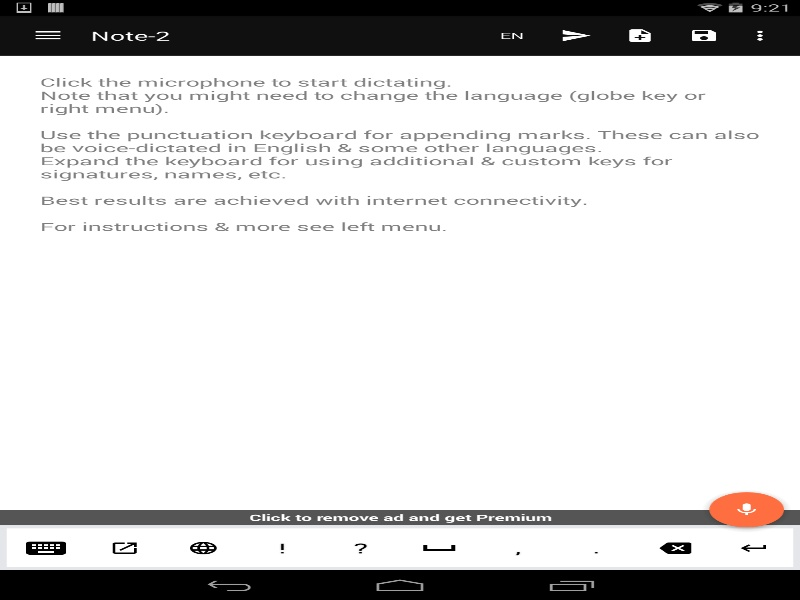Button: (693, 480, 800, 538), (10, 15, 85, 55)
Input: (40, 74, 760, 490)
